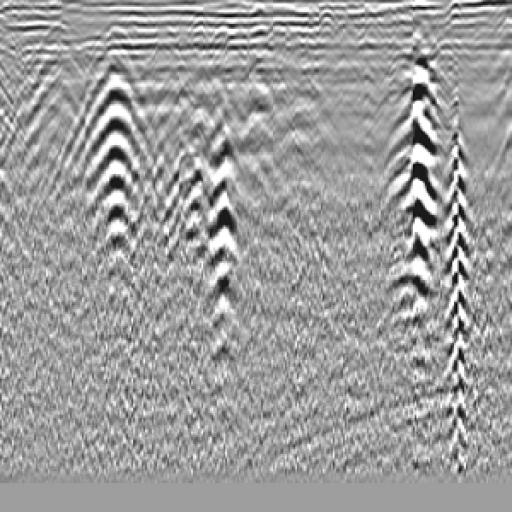metalic: (212, 60, 331, 182)
